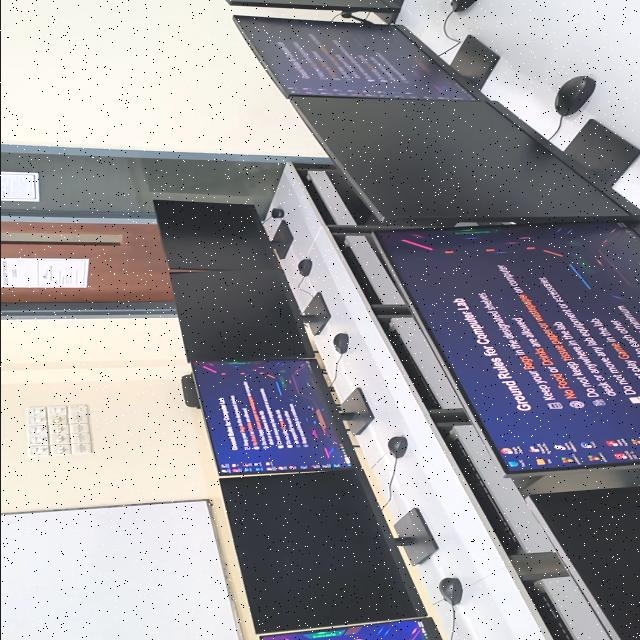Chair: (180, 374, 199, 409)
Keyboard: (444, 434, 521, 555), (383, 324, 439, 409), (293, 163, 335, 225), (340, 243, 380, 304), (528, 588, 572, 640)
Monitor: (371, 223, 640, 473), (291, 97, 640, 225), (218, 469, 436, 634), (232, 16, 498, 100), (191, 360, 372, 476), (525, 486, 640, 640), (170, 271, 329, 363), (153, 200, 292, 271), (225, 0, 403, 23), (260, 618, 440, 640)
Mouse: (554, 76, 594, 117), (438, 578, 461, 606), (387, 436, 406, 459), (332, 333, 347, 354), (450, 0, 476, 12), (298, 259, 311, 277), (269, 208, 283, 218)
